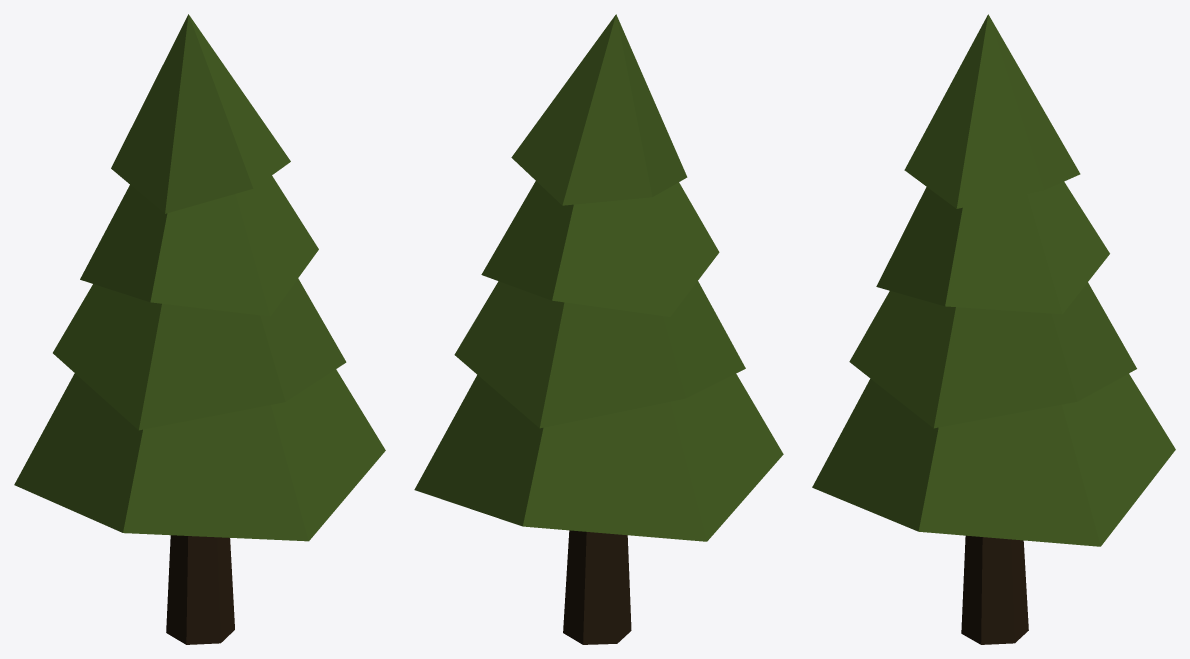
The model's file is Low_Poly_Tree_Quad.obj.
3 views of the same model, side by side, from view 1: azimuth 30°, elevation 25°; view 2: azimuth 150°, elevation 25°; view 3: azimuth 270°, elevation 25° (orthographic). The views are drawn at different scales.
Parts seen in each view (by area): view 1: Cone.001; view 2: Cone.001; view 3: Cone.001.
Boxes of the visible parts, x1,y1,x2,y2 form: Cone.001: (14,14,385,644); Cone.001: (414,14,783,644); Cone.001: (812,14,1175,644).
Bounding box in the file's own units: 2.42 × 4.9 × 2.64.
